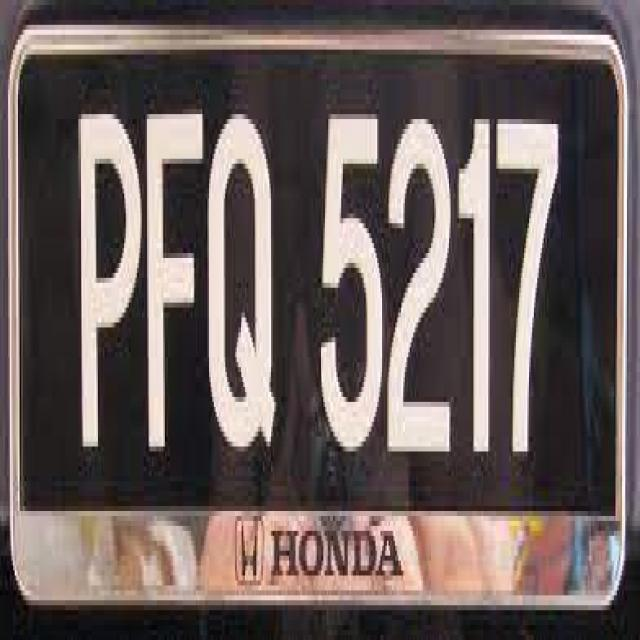License_Plate: (1, 19, 631, 625)
